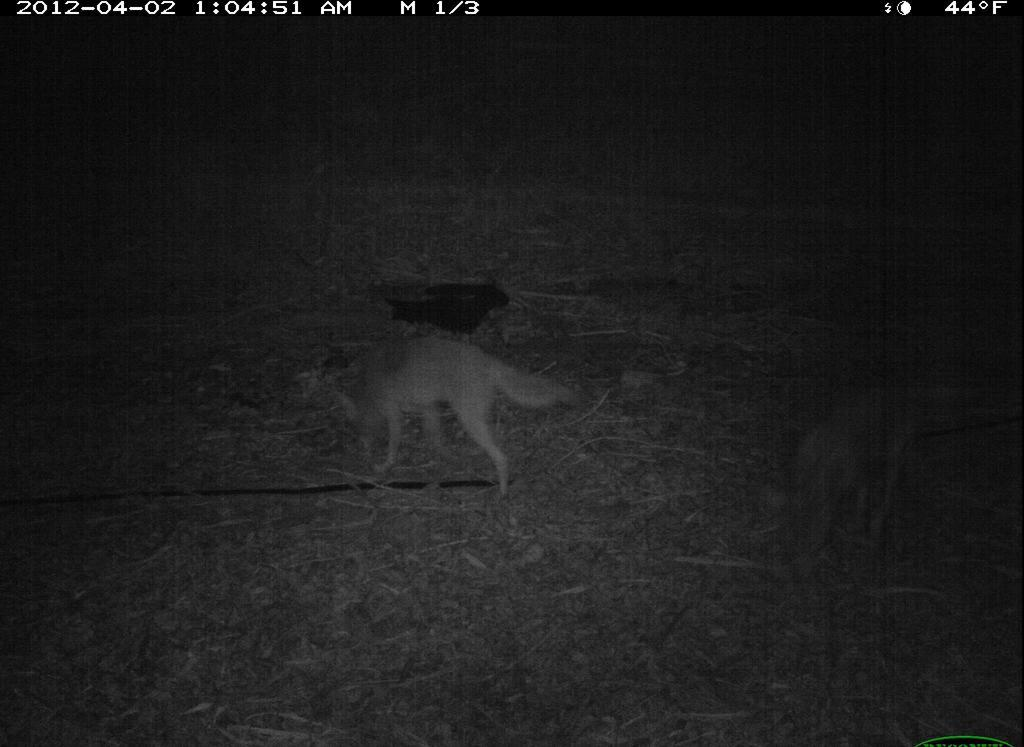coyote: (321, 328, 582, 502)
